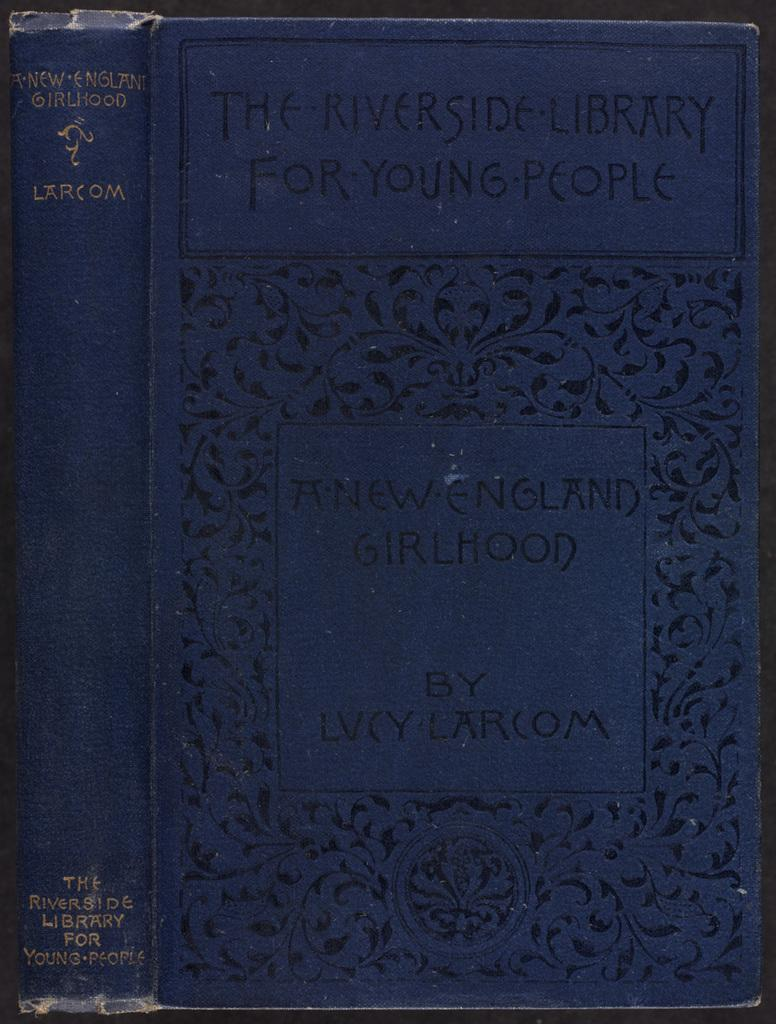book: (3, 10, 767, 1019)
